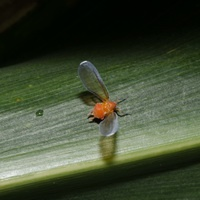insect: (78, 61, 117, 135)
